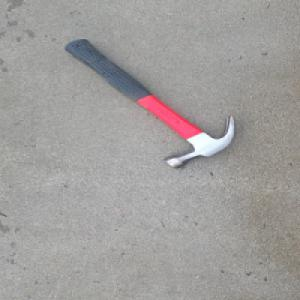Hammer: (63, 35, 238, 169)
